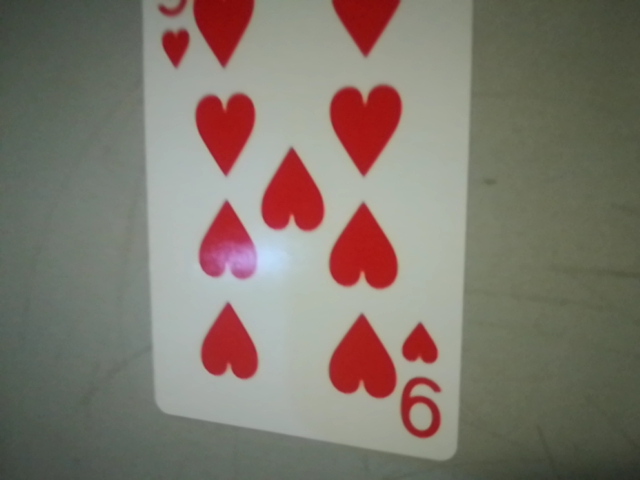hx 9: (391, 315, 459, 448)
